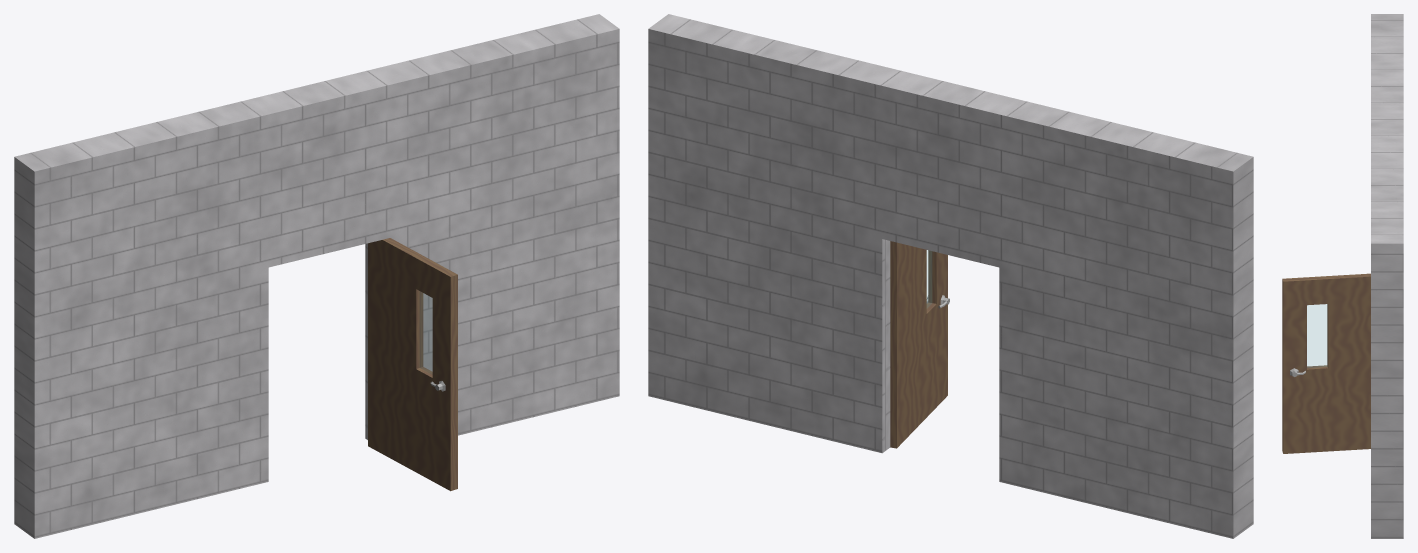
The model's file is schoolDoorOpen.glb.
3 views of the same model, side by side, from view 1: azimuth 30°, elevation 25°; view 2: azimuth 150°, elevation 25°; view 3: azimuth 270°, elevation 25° (orthographic). The views are drawn at different scales.
Visible parts, largest first — view 1: Cube.002, Cube.003; view 2: Cube.002, Cube.003; view 3: Cube.002, Cube.003.
Boxes of the visible parts, x1,y1,x2,y2 form: Cube.002: [14, 14, 619, 538]; Cube.003: [368, 238, 457, 491]; Cube.002: [648, 14, 1253, 538]; Cube.003: [890, 241, 949, 448]; Cube.002: [1371, 14, 1403, 538]; Cube.003: [1282, 273, 1370, 453].
Bounding box in the file's own units: 10 × 6 × 2.23.
Materials: 4 (2 with a texture image).
